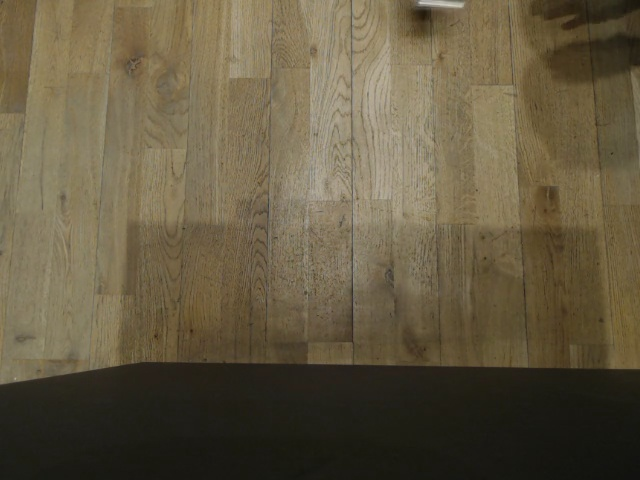beer: (410, 0, 475, 10)
